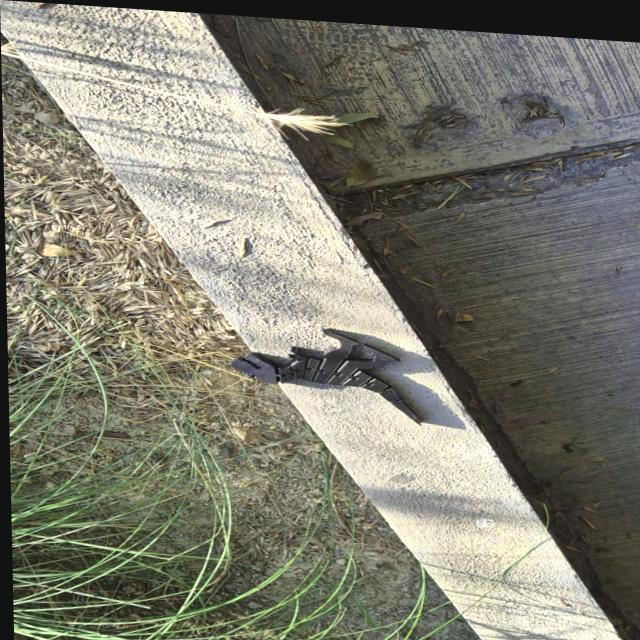dino: (229, 321, 423, 428)
